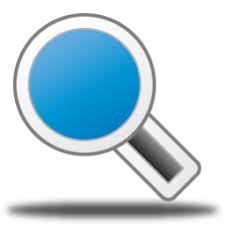searchIcon: (12, 10, 202, 200)
